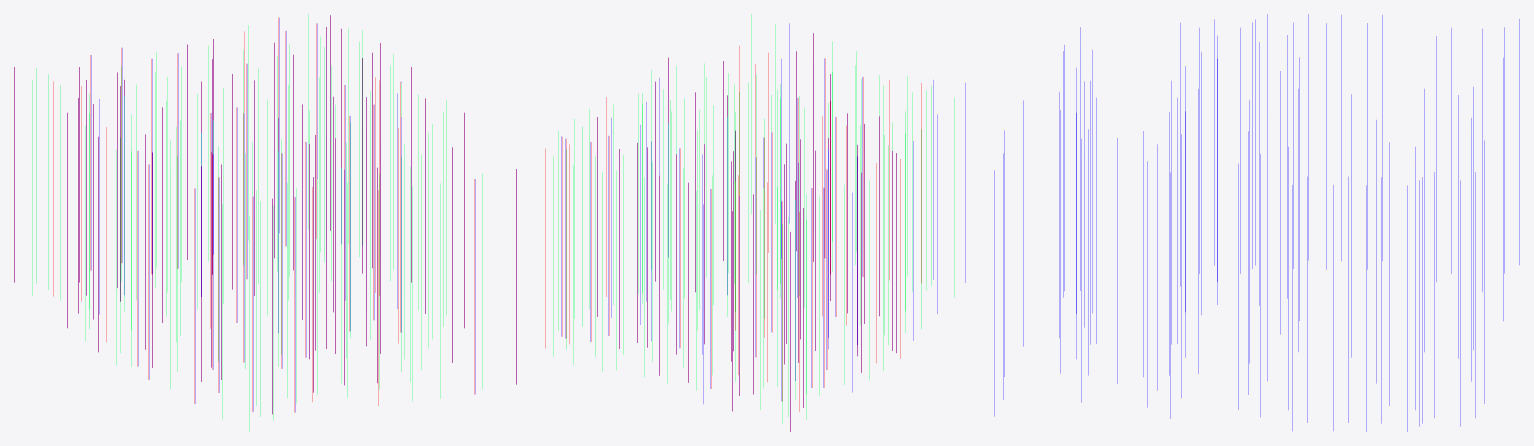
The model's file is stage_lightline_tate_MIx.glb.
The picture shows the model from 3 angles, left to right: view 1: azimuth 30°, elevation 25°; view 2: azimuth 150°, elevation 25°; view 3: azimuth 270°, elevation 25°; orthographic projection. The views are drawn at different scales.
Size of the model in its own units: 59.81 by 40 by 77.38.
